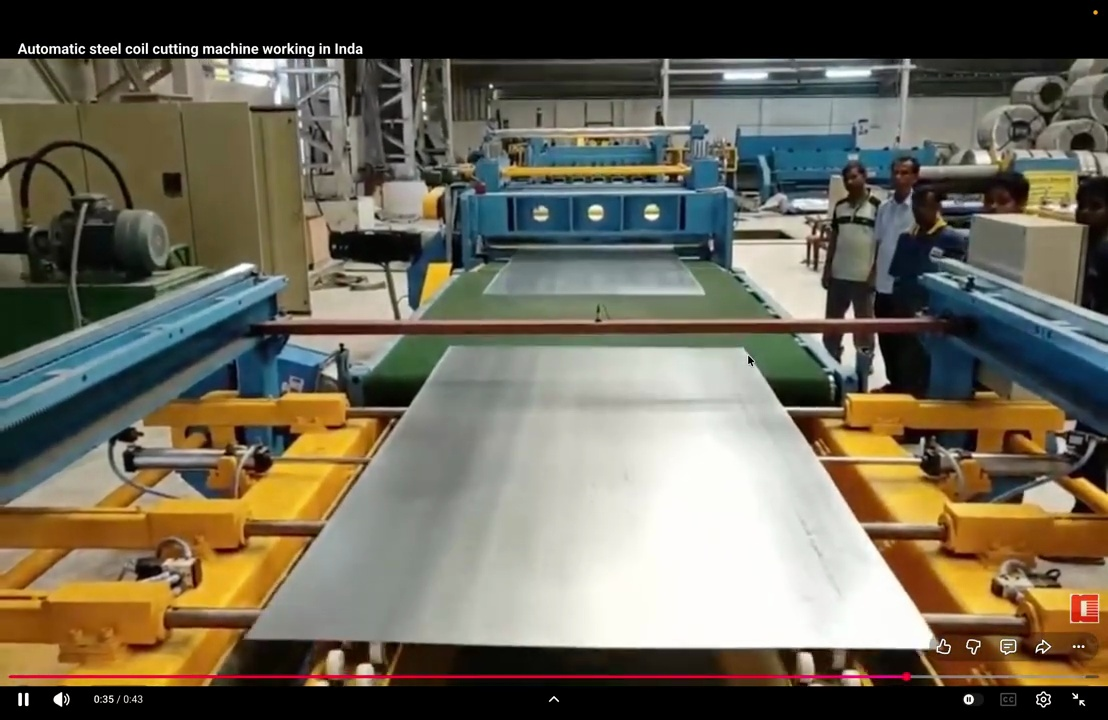steel plate: (248, 347, 931, 648), (484, 249, 703, 295)
